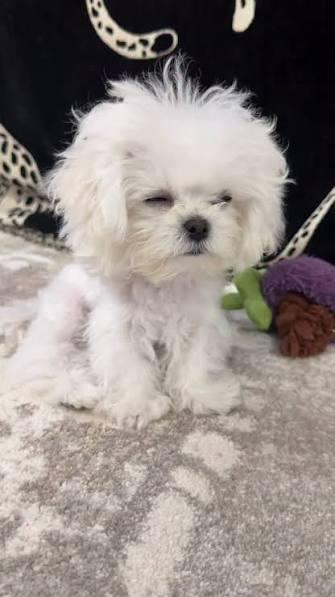puppy-dog: (2, 50, 291, 430)
